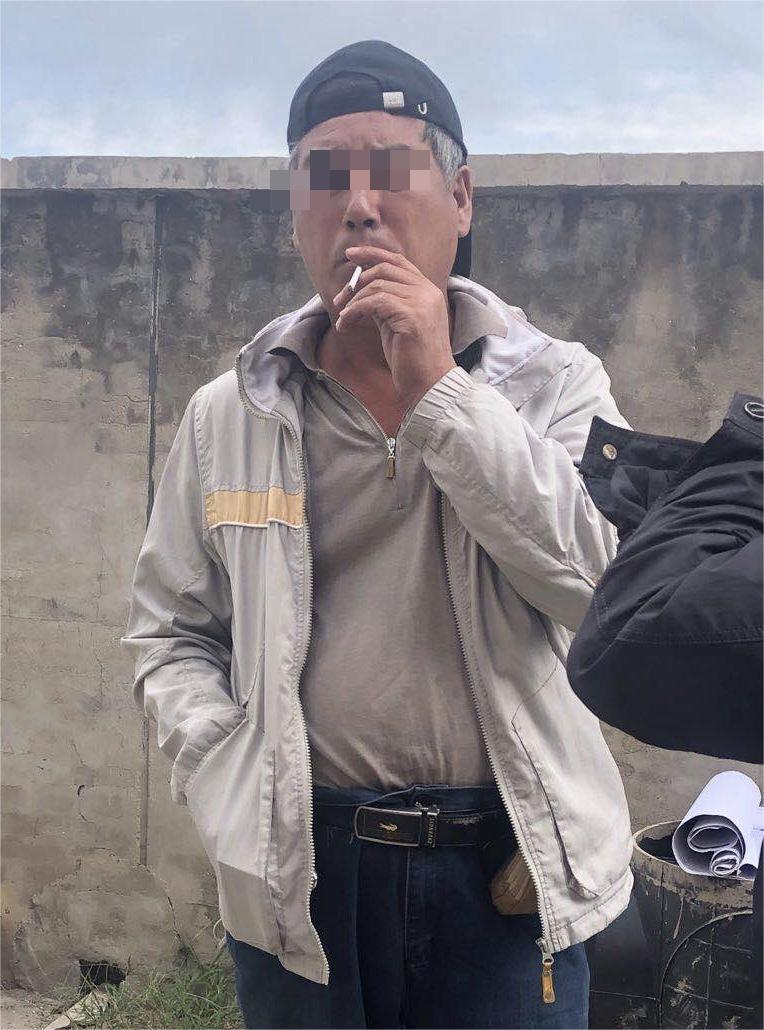smoke: (345, 264, 364, 297)
